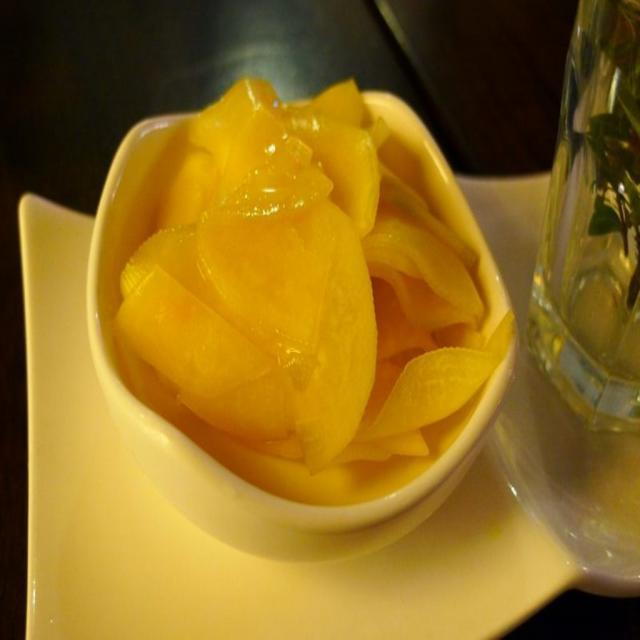Mango: (107, 78, 511, 508), (110, 268, 278, 398)
